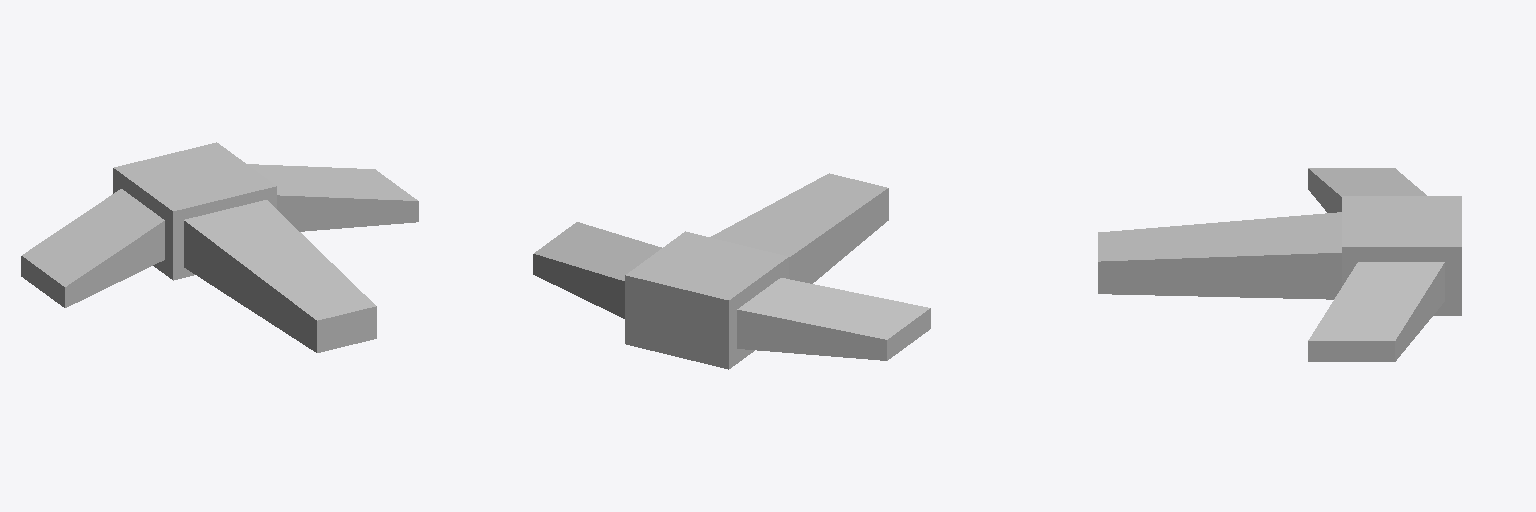
The model's file is ship.obj.
3 renders of one model, left to right at view 1: azimuth 30°, elevation 25°; view 2: azimuth 150°, elevation 25°; view 3: azimuth 270°, elevation 25°, orthographic.
Parts seen in each view (by area): view 1: Cube; view 2: Cube; view 3: Cube.
Boxes of the visible parts, x1,y1,x2,y2 form: Cube: [21, 142, 418, 352]; Cube: [533, 173, 930, 369]; Cube: [1098, 168, 1461, 361].
Size of the model in its own units: 6.81 by 1.27 by 6.06.